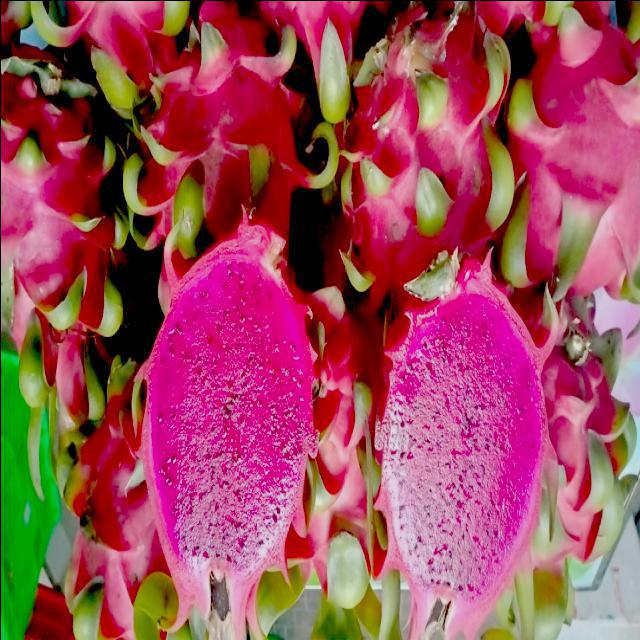do: (142, 220, 317, 639), (370, 248, 554, 600), (348, 8, 510, 300), (1, 45, 108, 418), (510, 10, 639, 296), (161, 9, 300, 250), (41, 395, 158, 639), (295, 294, 379, 619), (535, 308, 631, 578), (46, 1, 162, 104)
